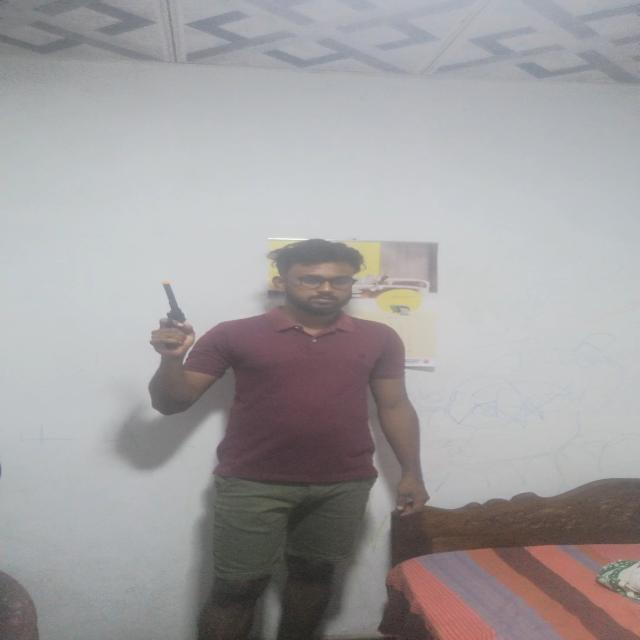Gun_Holder: (148, 282, 210, 350)
Person: (151, 236, 437, 640)
